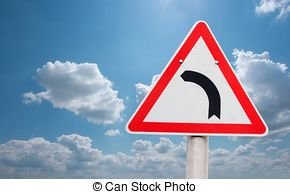Bend_to_left: (125, 19, 269, 139)
